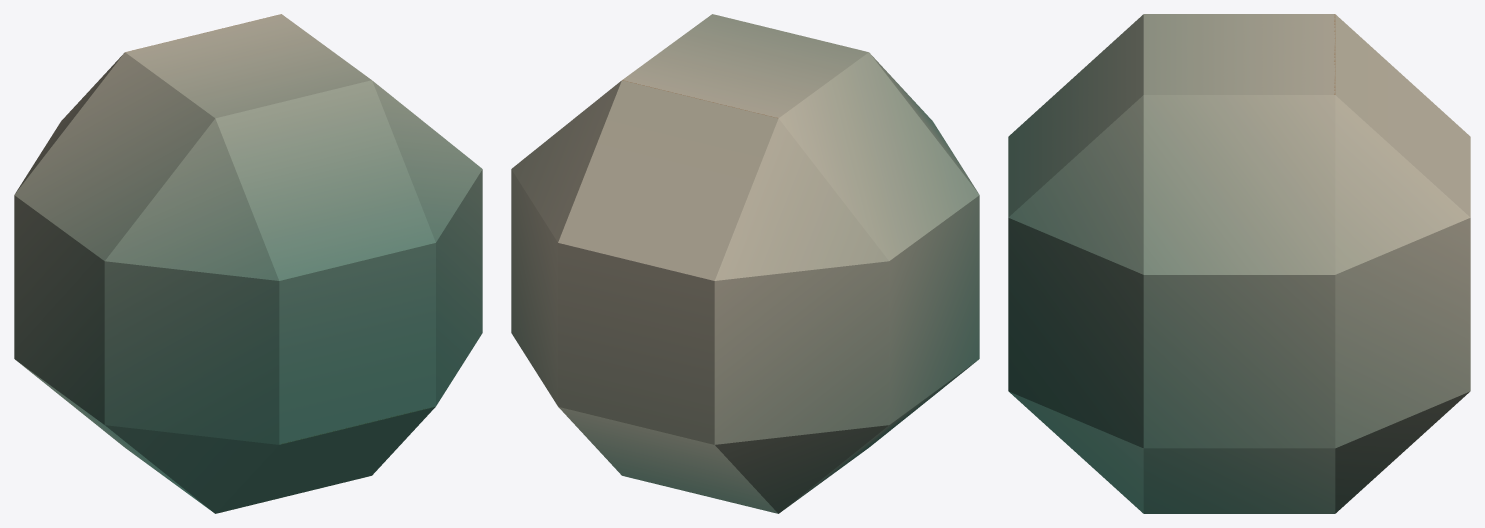
Rendered from Rhombicuboctahedron.glb.
3 renders of one model, left to right at view 1: azimuth 30°, elevation 25°; view 2: azimuth 150°, elevation 25°; view 3: azimuth 270°, elevation 25°, orthographic. The views are drawn at different scales.
Visible parts, largest first — view 1: Rhombicuboctahedron; view 2: Rhombicuboctahedron; view 3: Rhombicuboctahedron.
Boxes of the visible parts, x1,y1,x2,y2 form: Rhombicuboctahedron: (14,14,482,513); Rhombicuboctahedron: (511,14,979,513); Rhombicuboctahedron: (1008,14,1470,513).
Size of the model in its own units: 1.49 by 1.49 by 1.49.
1 material, 1 textured.
